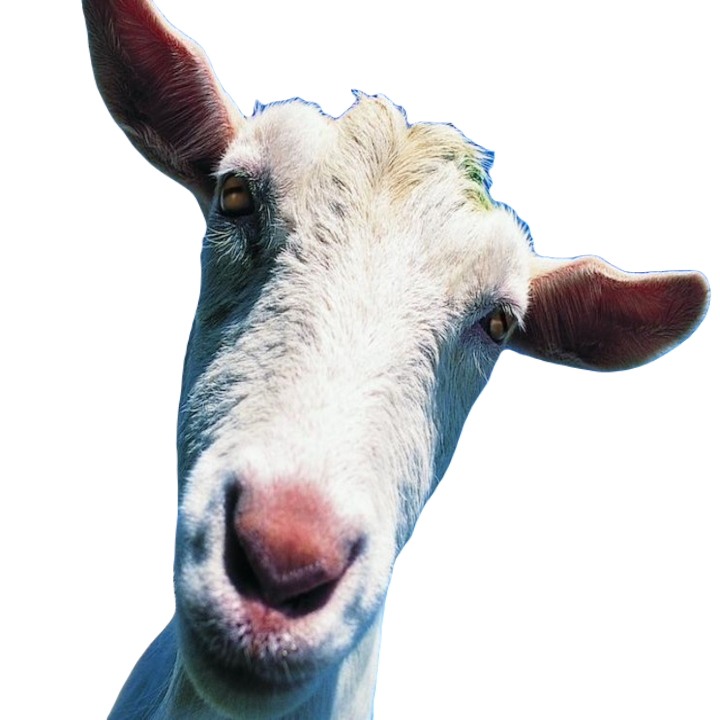Goat: (80, 0, 712, 720)
